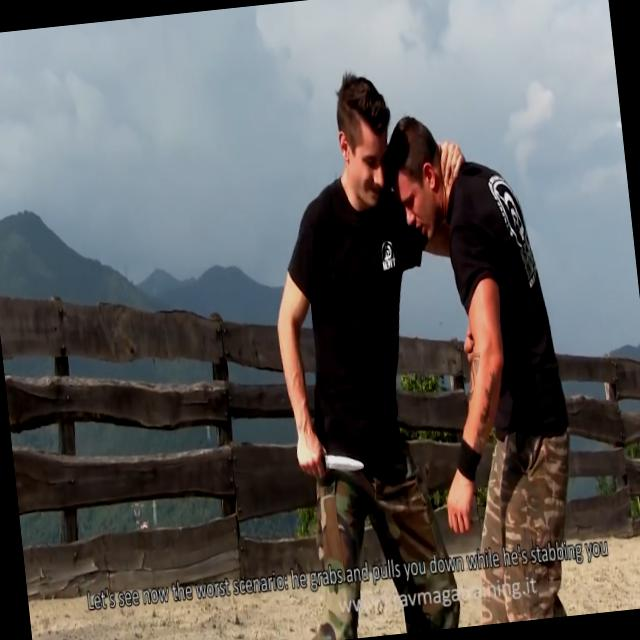knife: (293, 438, 371, 484)
